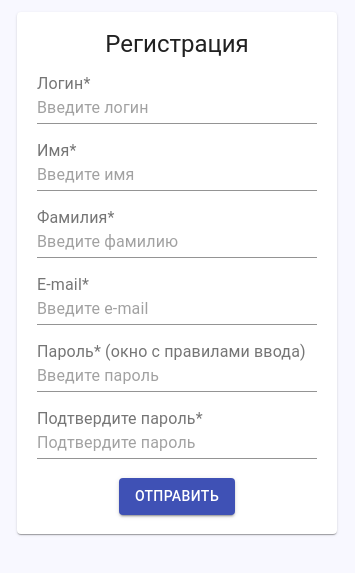
it: LibraryPage › check confpassword input validator (confpass=pass), activated after focus
Type "Aa888888" into the password field labelled "Пароль* (окно с правилами ввода)".
click(177, 376); type("Aa888888")  # box [37,360,317,392]
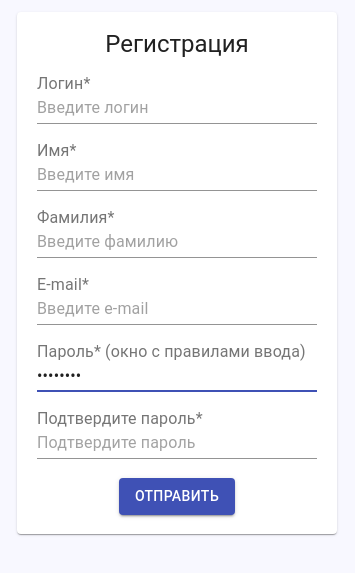
Type "aa888888" into the password field with id "confPassword".
click(177, 443); type("aa888888")  # box [37,427,317,459]
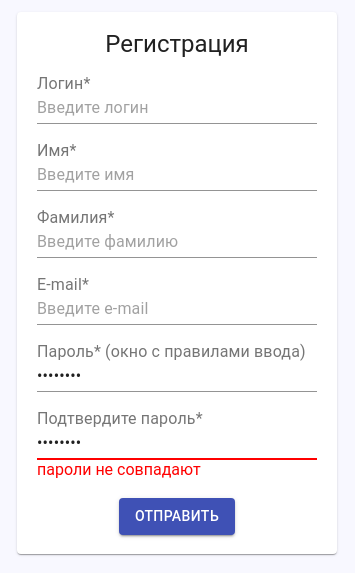
Now the text "пароли не совпадают" is shown, box [37,460,201,479]
